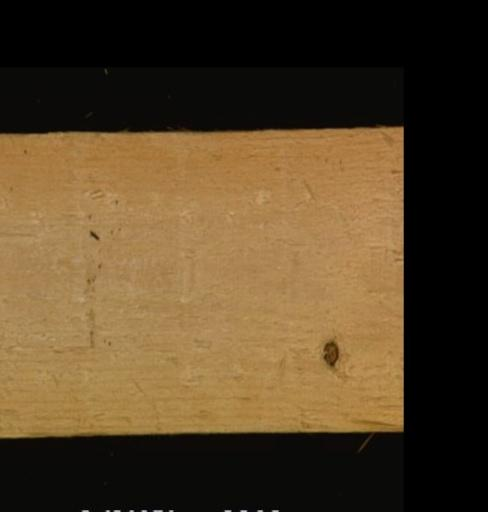dry_knot: (320, 339, 340, 369)
